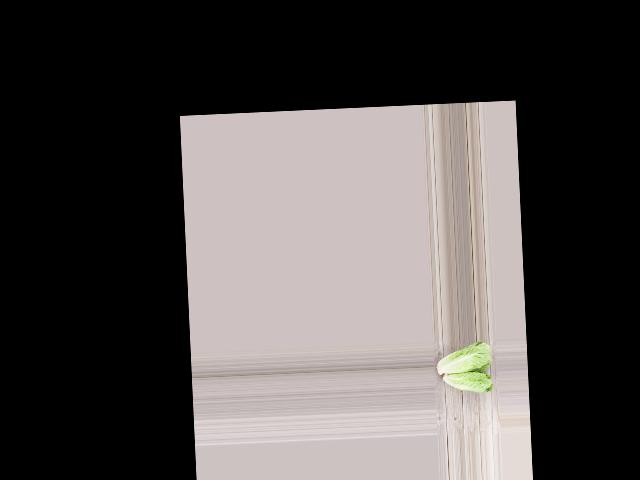lettuce: (433, 340, 494, 375)
